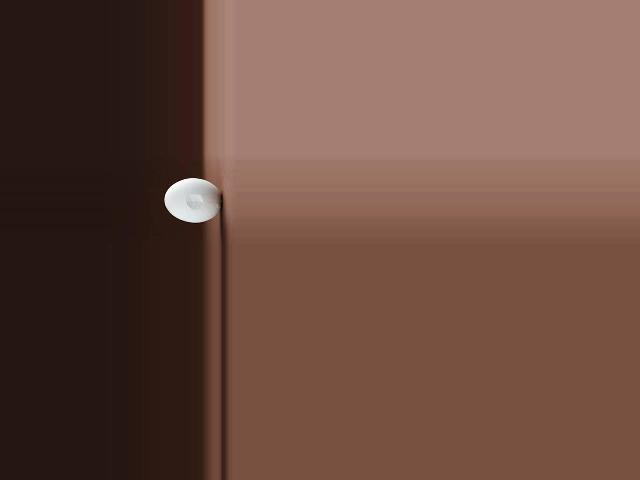egg: (164, 178, 221, 222)
